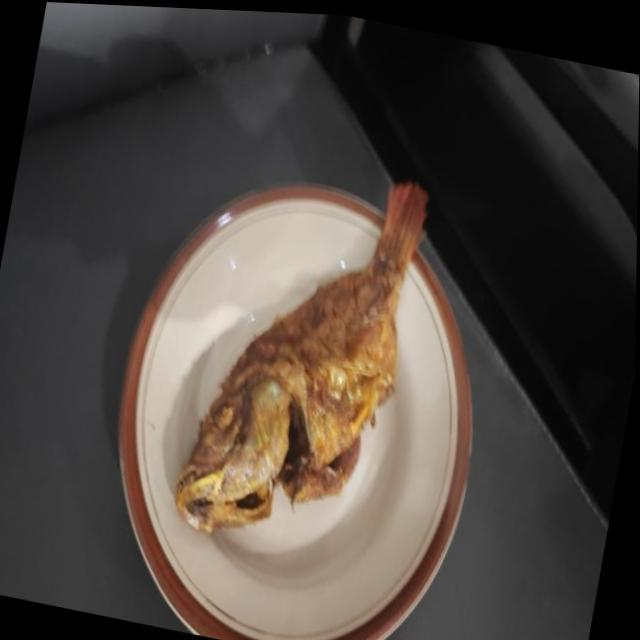ikan_mujair: (175, 183, 428, 532)
